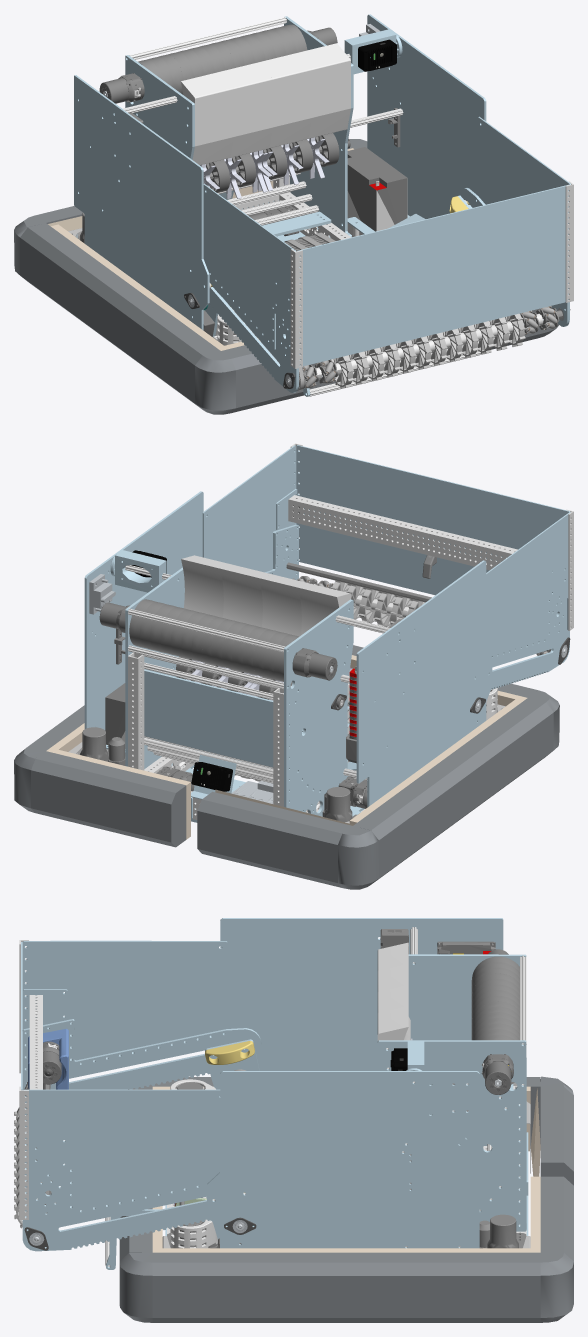
3 views of the same model, one above another, from view 1: azimuth 30°, elevation 25°; view 2: azimuth 150°, elevation 25°; view 3: azimuth 270°, elevation 25° (orthographic). The views are drawn at different scales.
Parts seen in each view (by area): view 1: New Intake Front, Hopper Side 2 RIGHT, Hopper Side 2 LEFT, Right Bumper Foam, Rack Hopper Sides, Rack Hopper Sides.001, Robot Battery, Hood Taller Center Slice, Hood Taller Center Slice.003, Hood Taller Center Slice.002, Hood Taller Center Slice.001, Backwards Shooter Side Plate.001 (+22 smaller); view 2: Hopper Side 2 RIGHT, New Intake Front, Right Bumper Foam, Backwards Shooter Side Plate.001, Back Left Bumper Foam, Back Right Bumper Foam, Backward Back Plate, Rack Hopper Sides, Hopper Side 2 LEFT, Rack Hopper Sides.001, 2" x 1" x 0.0625" MAXTube (26" L, Full Pattern, 0.5" Pitch), Rack (+30 smaller); view 3: Hopper Side 2 LEFT, Left Bumper Foam, Hopper Side 2 RIGHT, Rack Hopper Sides.001, Rack Hopper Sides, Backwards Shooter Side Plate, Rack.001, Rack, Backwards Shooter Side Plate.001, Back Right Bumper Foam, Back Left Bumper Foam, BL Corner Foam (+22 smaller).
Boxes of the visible parts, x1,y1,x2,y2 form: New Intake Front: (297, 184, 569, 366); Hopper Side 2 RIGHT: (74, 75, 209, 330); Hopper Side 2 LEFT: (367, 14, 486, 218); Right Bumper Foam: (20, 223, 220, 408); Rack Hopper Sides: (203, 184, 295, 349); Rack Hopper Sides.001: (477, 116, 570, 204); Robot Battery: (347, 147, 407, 237); Hood Taller Center Slice: (181, 72, 233, 165); Hood Taller Center Slice.003: (259, 53, 311, 148); Hood Taller Center Slice.002: (220, 62, 272, 157); Hood Taller Center Slice.001: (298, 43, 350, 138); Backwards Shooter Side Plate.001: (125, 55, 194, 159); Hopper Side 2 RIGHT: (356, 560, 492, 807); New Intake Front: (296, 445, 570, 595); Right Bumper Foam: (353, 698, 553, 882); Backwards Shooter Side Plate.001: (284, 599, 353, 816); Back Left Bumper Foam: (31, 751, 186, 847); Back Right Bumper Foam: (197, 791, 352, 887); Backward Back Plate: (144, 669, 273, 767); Rack Hopper Sides: (486, 512, 570, 659); Hopper Side 2 LEFT: (84, 491, 203, 730); Rack Hopper Sides.001: (202, 445, 296, 572); 2" x 1" x 0.0625" MAXTube (26" L, Full Pattern, 0.5" Pitch): (288, 495, 517, 570); Rack: (491, 598, 569, 689); Hopper Side 2 LEFT: (207, 1071, 479, 1248); Left Bumper Foam: (152, 1252, 540, 1322); Hopper Side 2 RIGHT: (220, 918, 503, 1070); Rack Hopper Sides.001: (23, 1089, 220, 1217); Rack Hopper Sides: (22, 940, 227, 1068); Backwards Shooter Side Plate: (377, 1040, 526, 1231); Rack.001: (22, 1170, 210, 1251); Rack: (22, 1019, 261, 1089); Backwards Shooter Side Plate.001: (408, 954, 526, 1145); Back Right Bumper Foam: (540, 1086, 573, 1185); Back Left Bumper Foam: (540, 1176, 573, 1261); BL Corner Foam: (540, 1252, 573, 1322).
Size of the model in its own units: 87.64 by 54.89 by 107.
